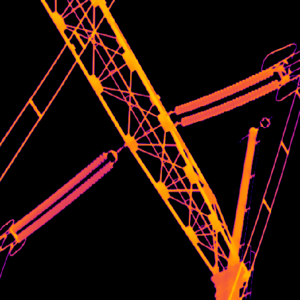insulator: (15, 158, 113, 242), (8, 150, 106, 232), (173, 64, 274, 115), (180, 78, 280, 126)
